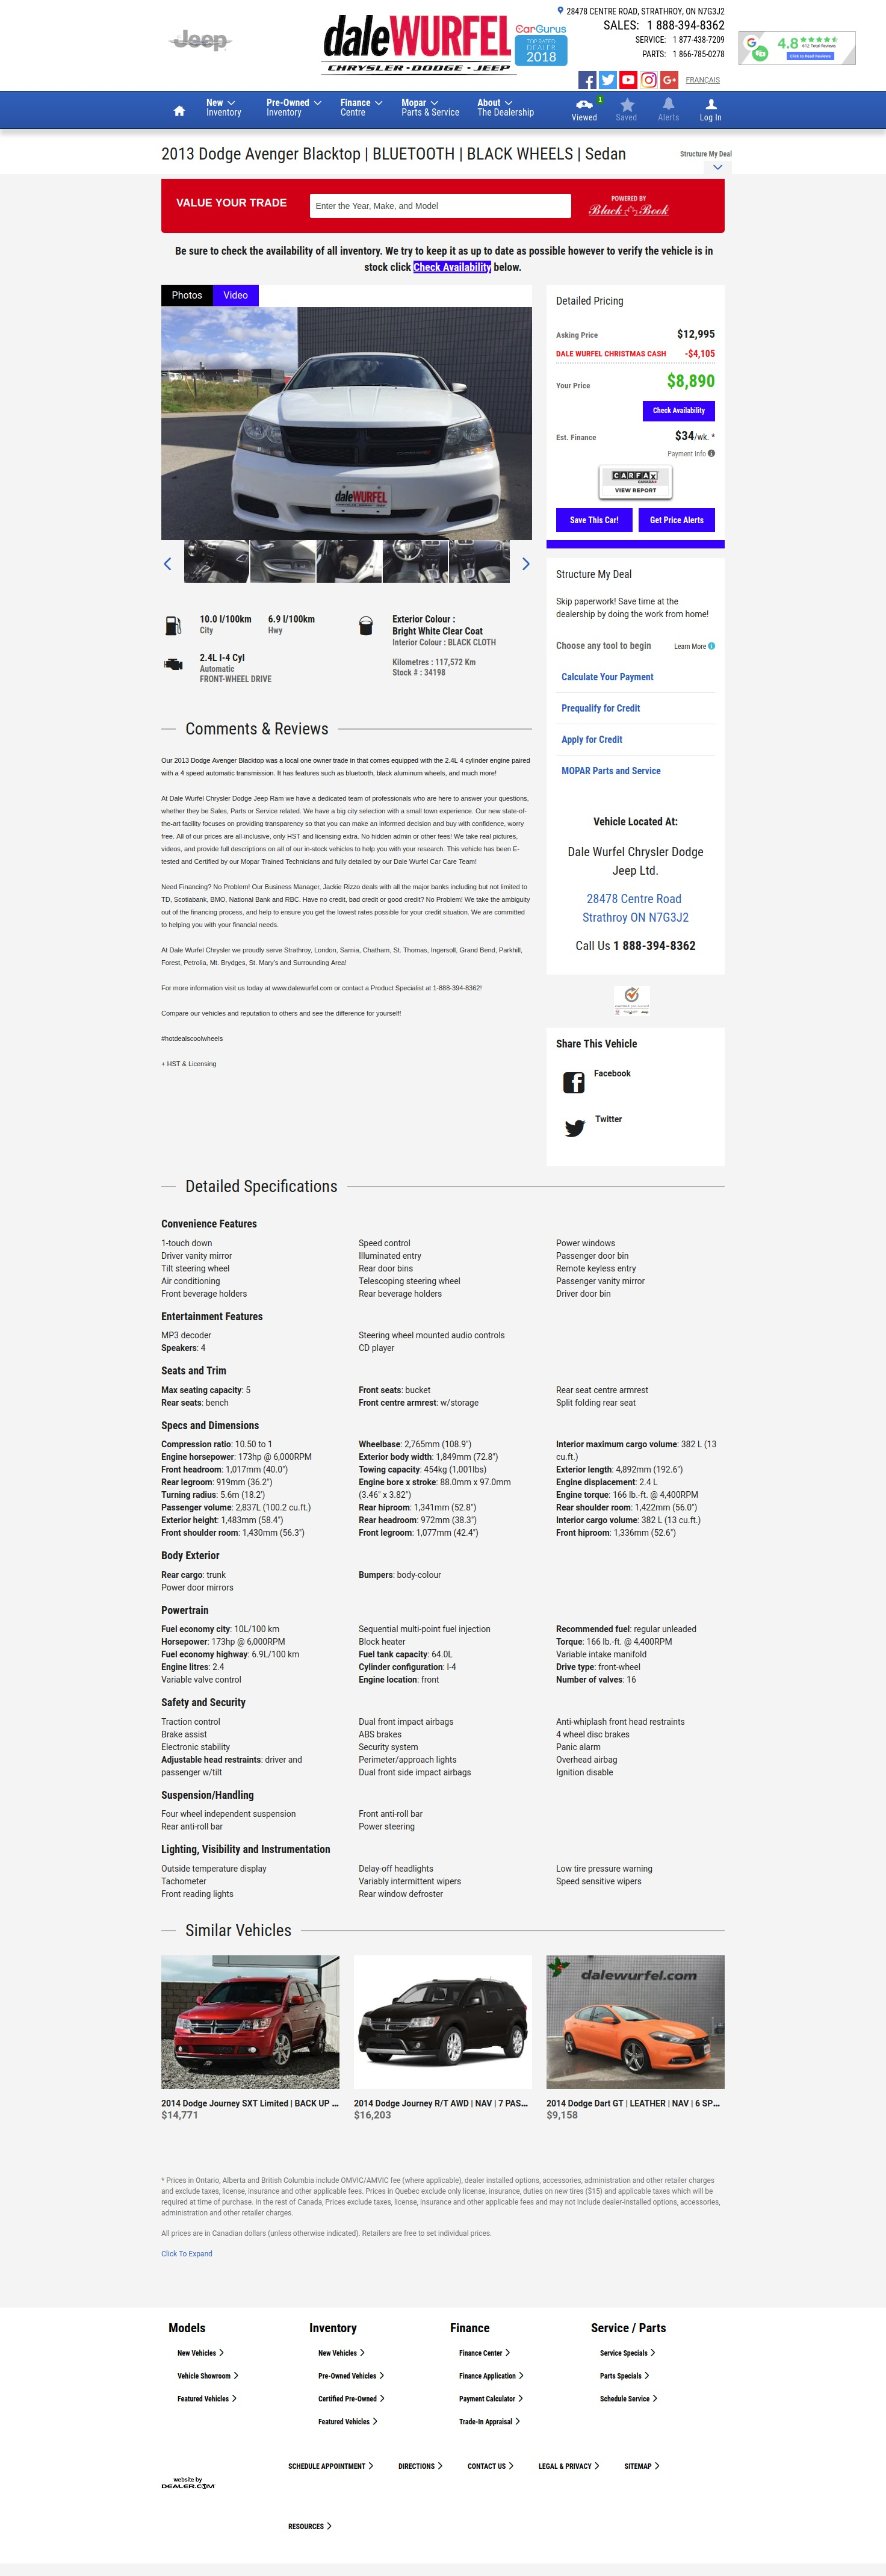car: (521, 559, 531, 570)
